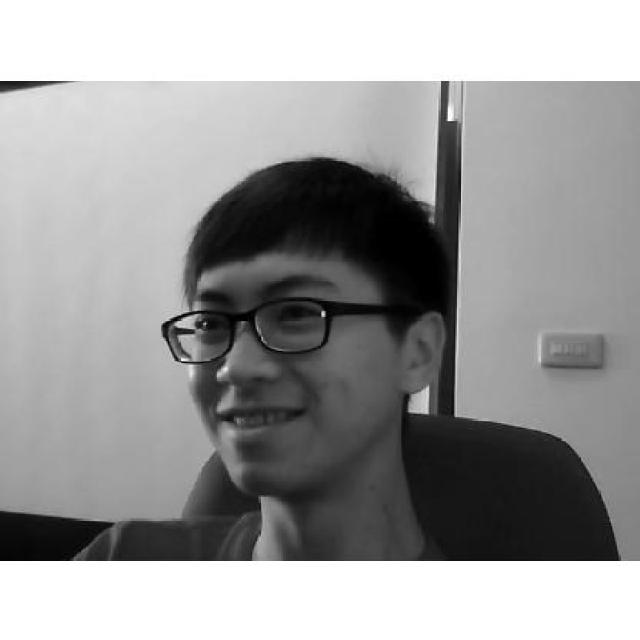attentif: (162, 156, 447, 496)
